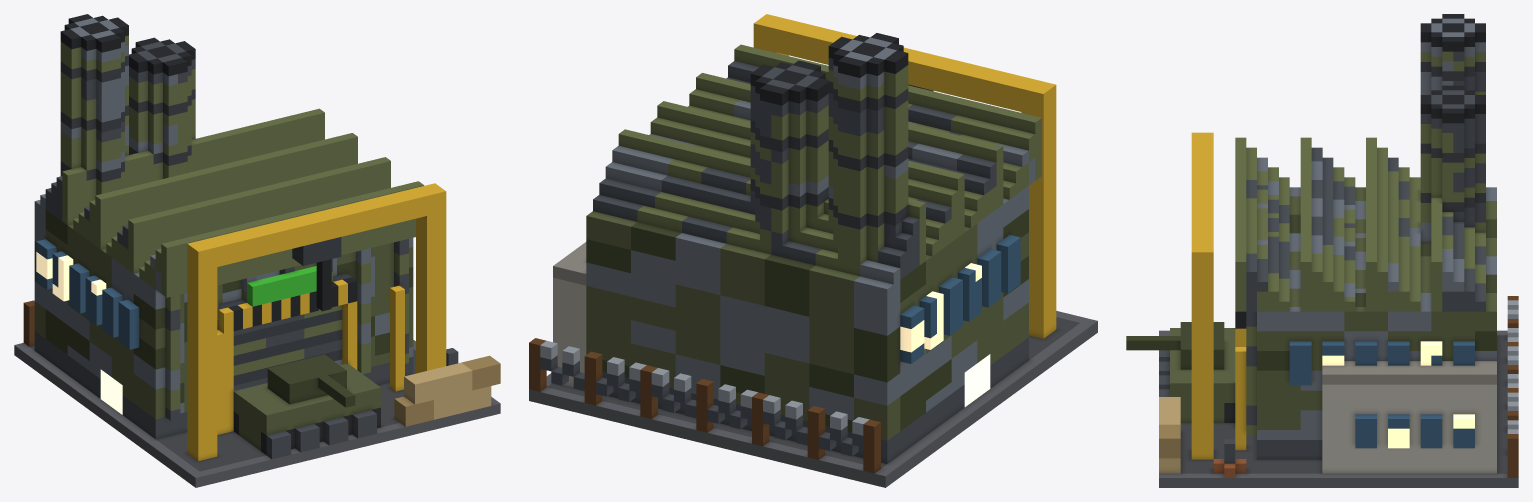
Rendered from cm_factory_3.glb.
3 renders of one model, left to right at view 1: azimuth 30°, elevation 25°; view 2: azimuth 150°, elevation 25°; view 3: azimuth 270°, elevation 25°, orthographic. The views are drawn at different scales.
Parts seen in each view (by area): view 1: cm_factory_3_body; view 2: cm_factory_3_body; view 3: cm_factory_3_body.
Part boxes in pixels (x1,y1,x2,y2): cm_factory_3_body: [14, 14, 500, 487]; cm_factory_3_body: [529, 14, 1097, 487]; cm_factory_3_body: [1126, 14, 1518, 487].
Bounding box in the file's own units: 2 × 2.12 × 2.25.
Materials: 1 (1 with a texture image).
